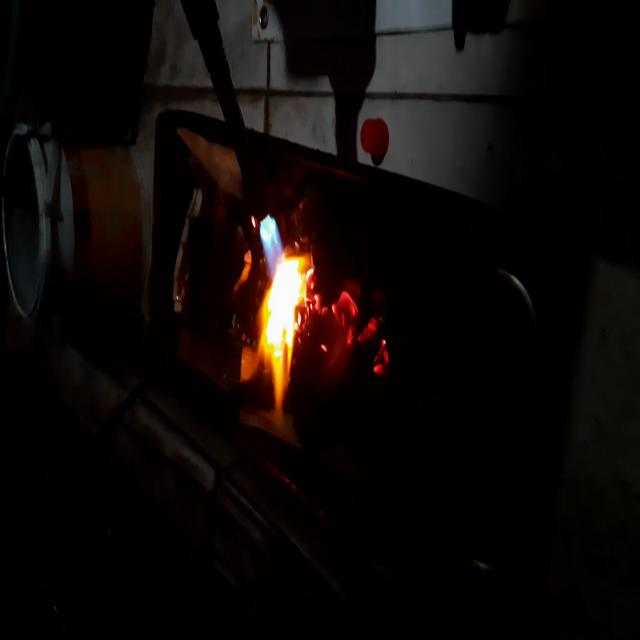Fire: (246, 203, 316, 402), (318, 282, 394, 410)
